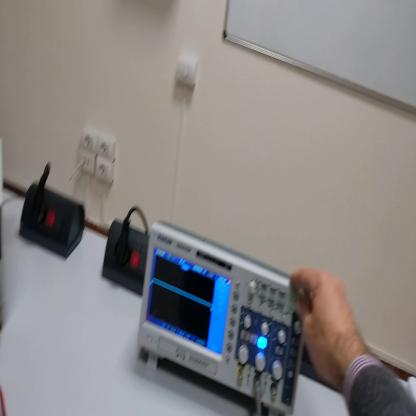hand: (289, 269, 362, 391)
oscilloscope: (135, 226, 306, 416)
socket: (21, 183, 85, 261), (104, 218, 149, 296)
